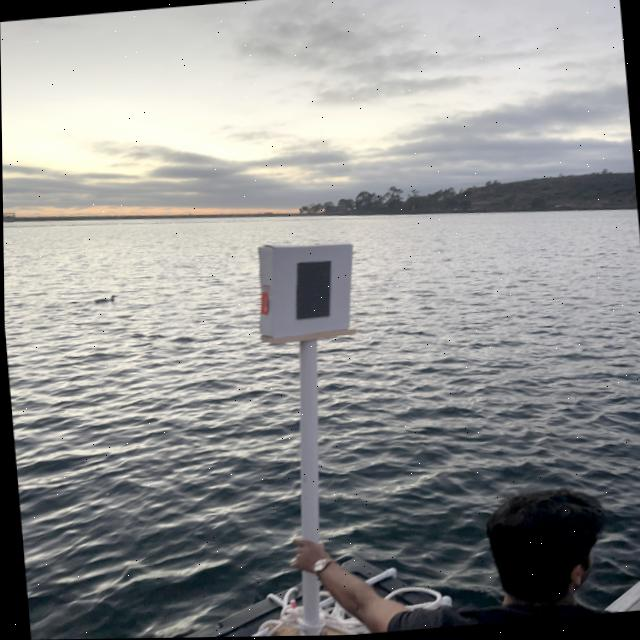led: (270, 244, 348, 345)
